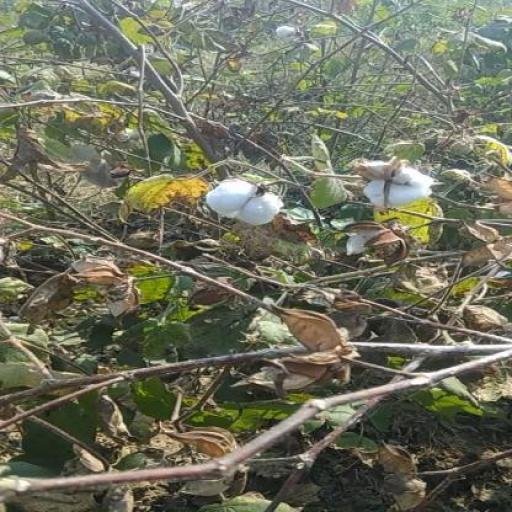cotton_ready: (335, 143, 443, 232), (162, 168, 309, 232)
